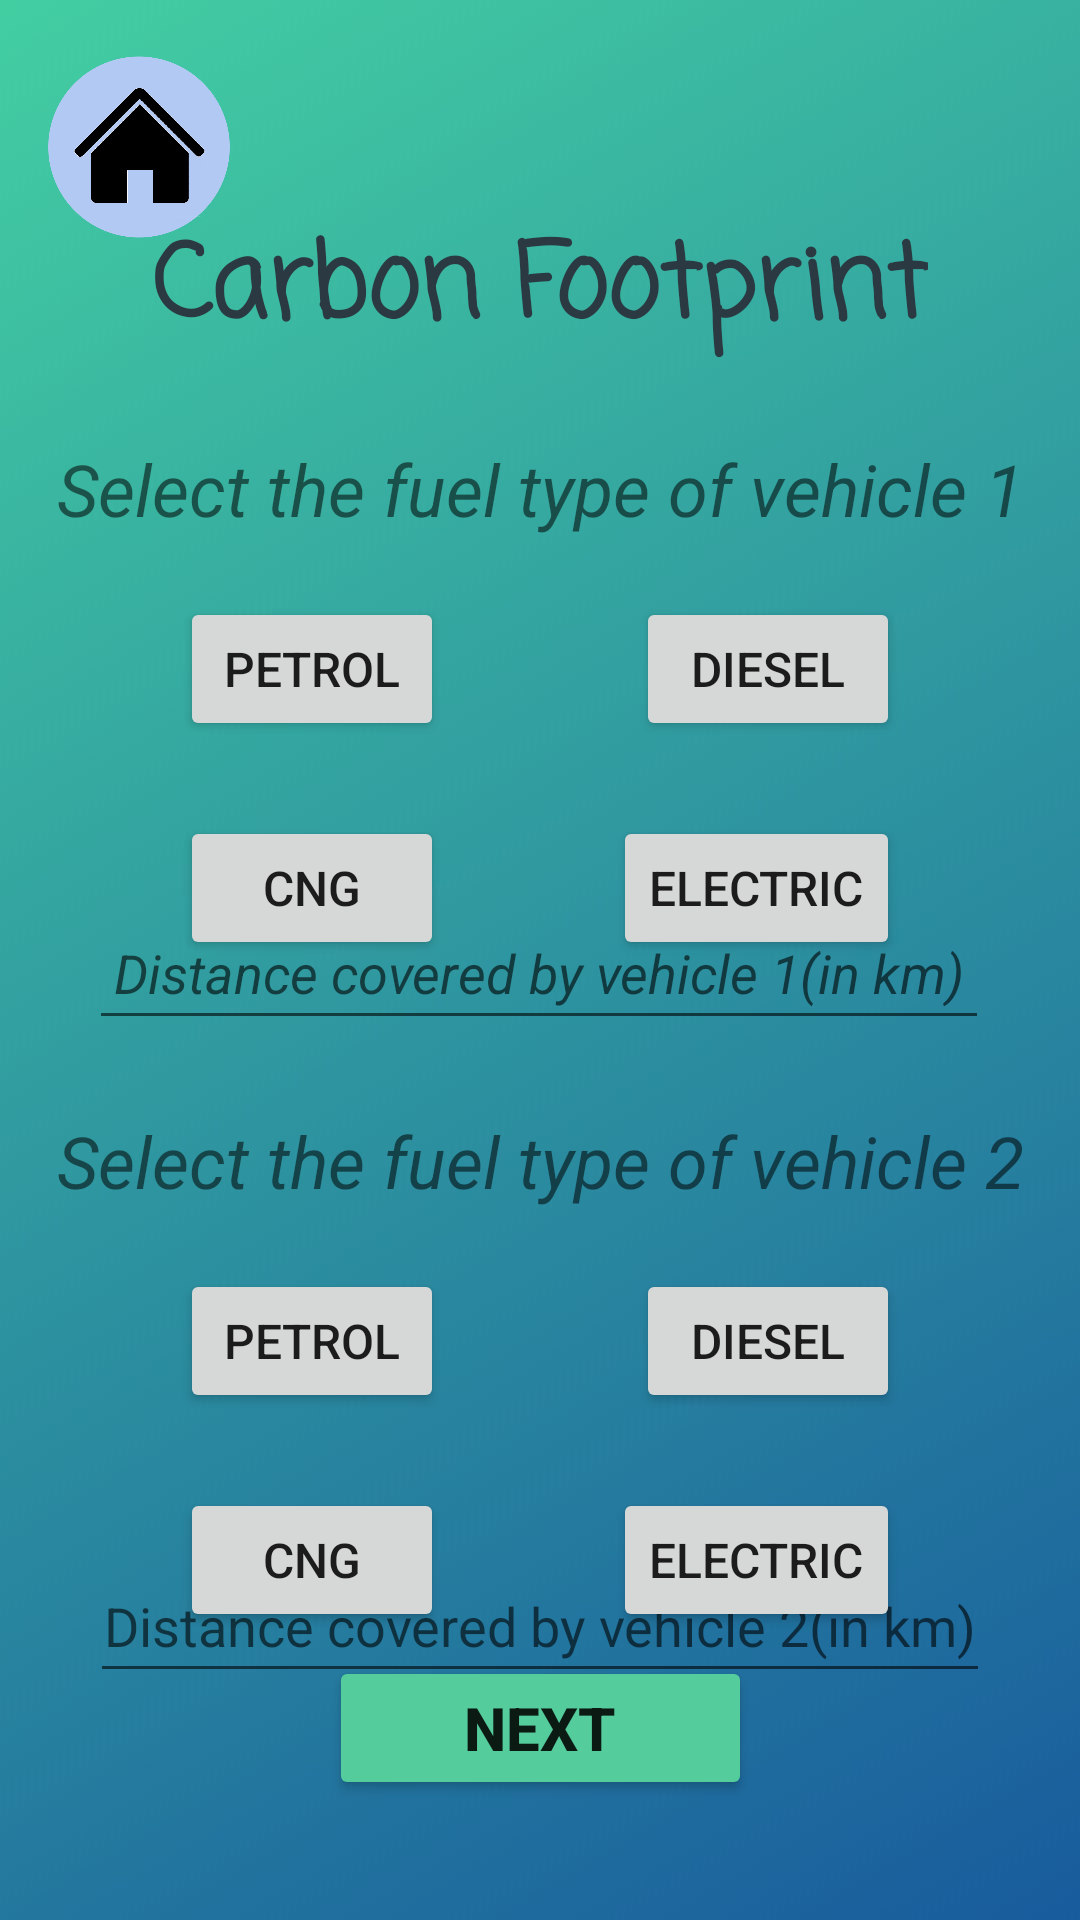

Icon bounding boxes for this 1080x1920 phone screenshot, format (x1, y1, x2, y2):
home: (48, 56, 230, 238)
